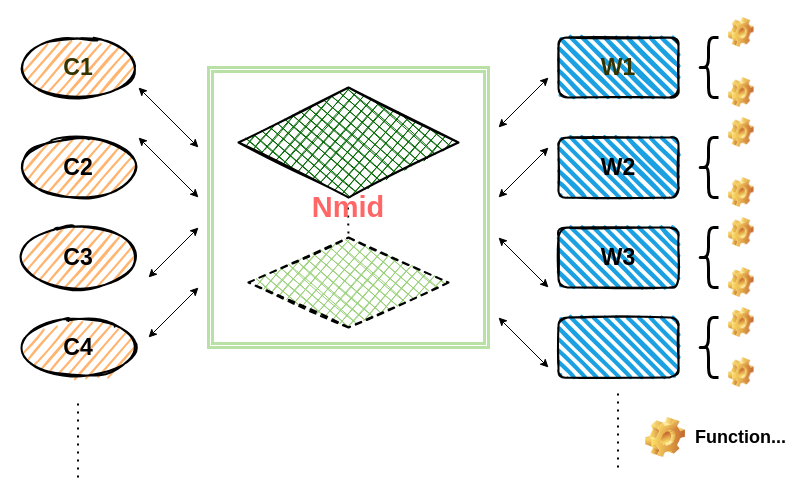
Image size: 812x496. Some labels were removed from this diagram. Each missing label, with the centre of its shape:
"N1" belongs at [348,142].
"N2" belongs at [348,282].
"W4" belongs at [618,347].
